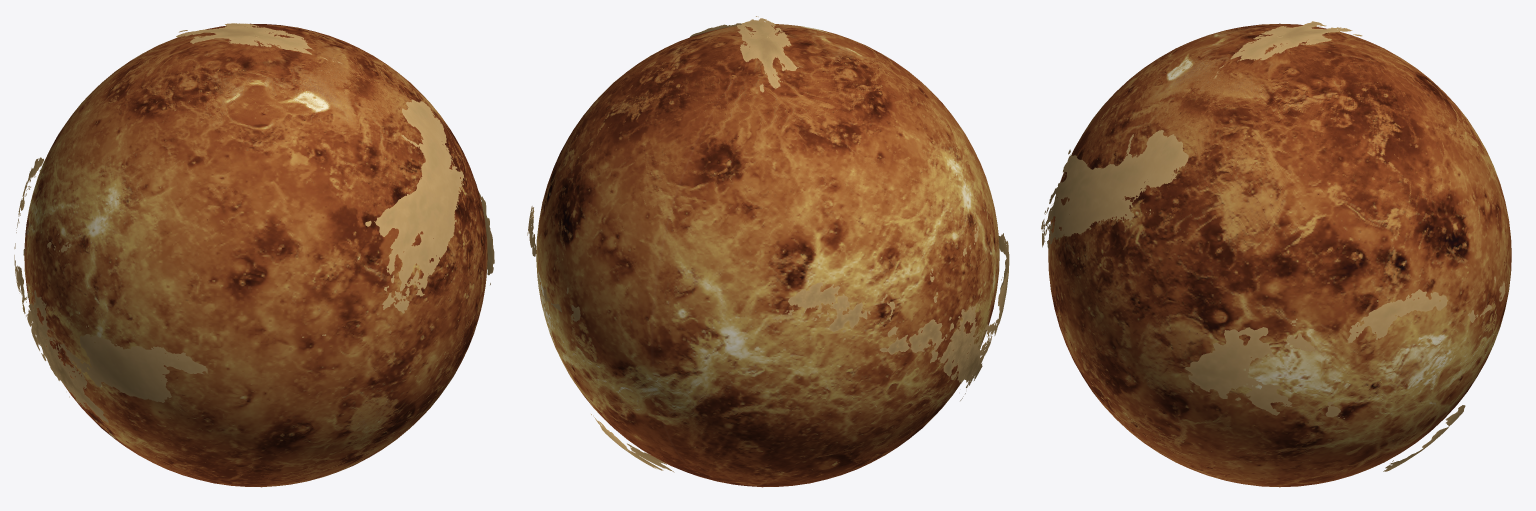
File: Venus.fbx
3 views of the same model, side by side, from view 1: azimuth 30°, elevation 25°; view 2: azimuth 150°, elevation 25°; view 3: azimuth 270°, elevation 25° (orthographic).
Parts seen in each view (by area): view 1: 22, 33; view 2: 22, 33; view 3: 22, 33.
Boxes of the visible parts, x1,y1,x2,y2 form: 22: (24, 23, 487, 487); 33: (14, 23, 494, 439); 22: (536, 24, 999, 487); 33: (527, 16, 1009, 472); 22: (1048, 23, 1511, 487); 33: (1041, 21, 1506, 471).
Bounding box in the file's own units: 1.21 × 1.21 × 1.21.
